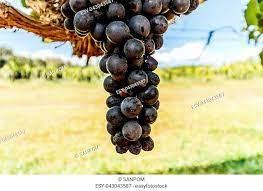Grape Rotten: (60, 0, 206, 155)
